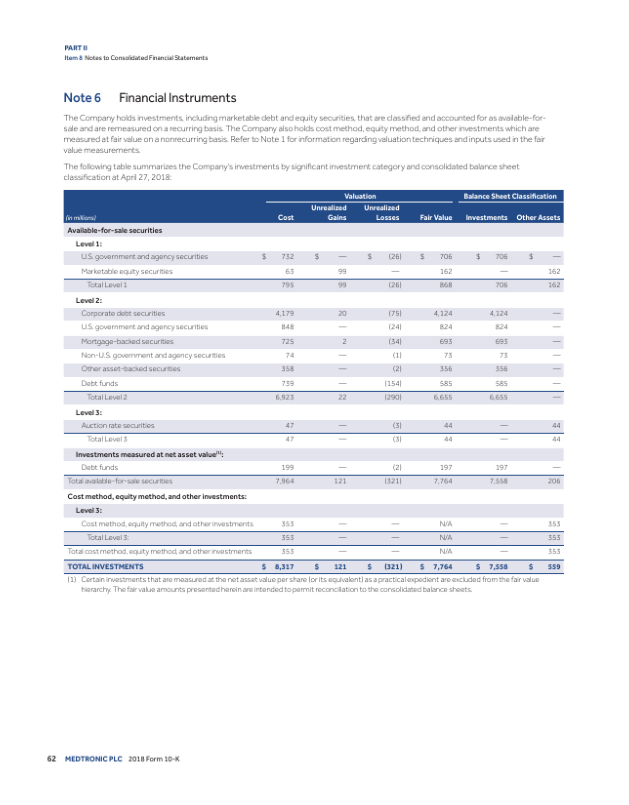table: (64, 191, 562, 571)
